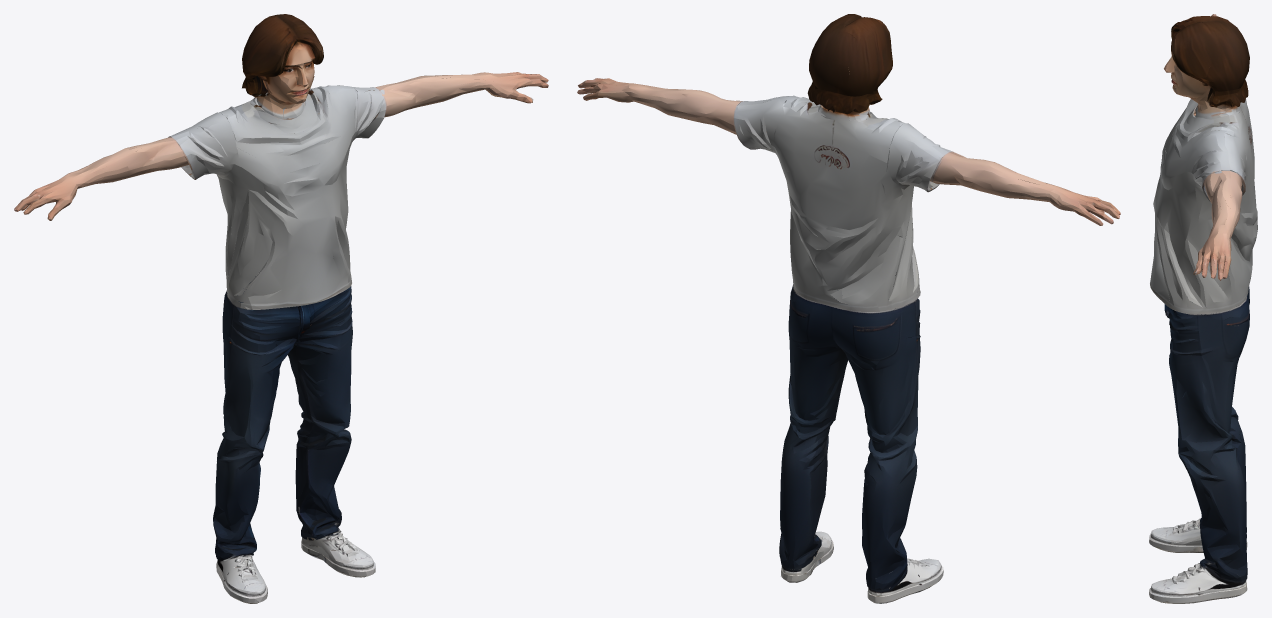
3 views of the same model, side by side, from view 1: azimuth 30°, elevation 25°; view 2: azimuth 150°, elevation 25°; view 3: azimuth 270°, elevation 25° (orthographic).
Parts seen in each view (by area): view 1: Object_3, Object_2; view 2: Object_3, Object_2; view 3: Object_3, Object_2.
Boxes of the visible parts, bbox=[...] form: Object_3: bbox=[14, 14, 548, 603]; Object_2: bbox=[14, 31, 548, 603]; Object_3: bbox=[577, 14, 1119, 603]; Object_2: bbox=[577, 18, 1120, 602]; Object_3: bbox=[1149, 14, 1257, 603]; Object_2: bbox=[1149, 19, 1252, 603].
Size of the model in its own units: 1.83 by 1.81 by 0.3234.
1 material, 1 textured.
